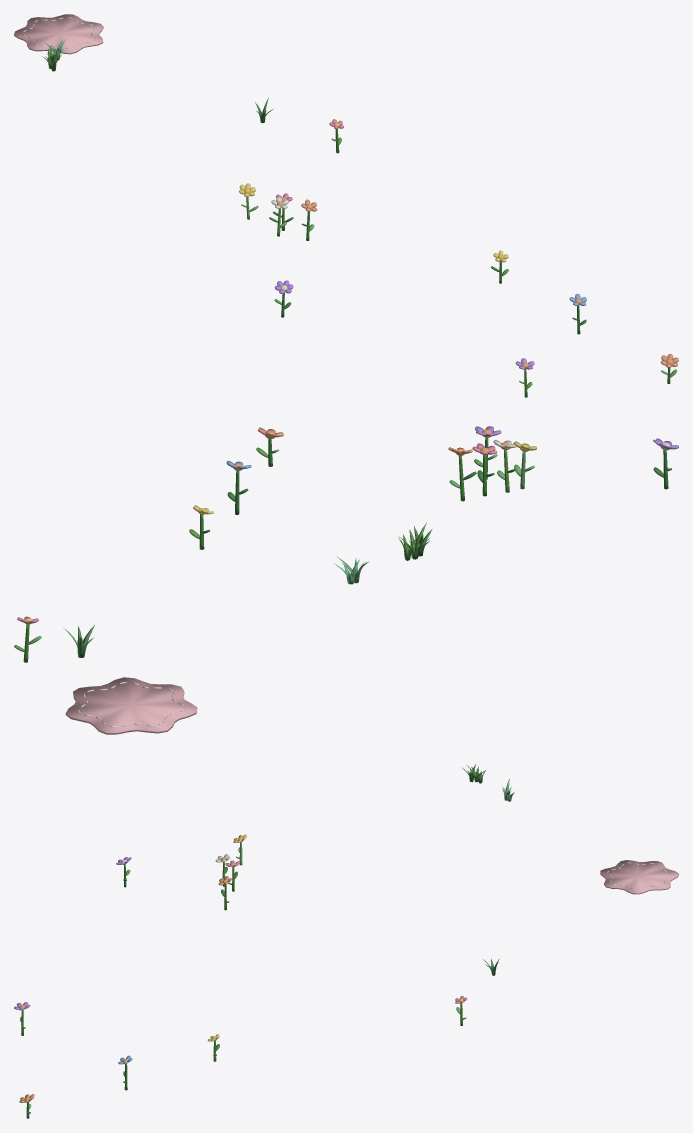
Rendered from W4_FloraRing_7_9.fbx.
3 renders of one model, top to bottom at view 1: azimuth 30°, elevation 25°; view 2: azimuth 150°, elevation 25°; view 3: azimuth 270°, elevation 25°, orthographic. The views are drawn at different scales.
Parts seen in each view (by area): view 1: W4_FloraRing_7_9; view 2: W4_FloraRing_7_9; view 3: W4_FloraRing_7_9.
Part boxes in pixels (x1,y1,x2,y2): W4_FloraRing_7_9: (14, 14, 678, 397); W4_FloraRing_7_9: (14, 426, 678, 734); W4_FloraRing_7_9: (14, 764, 678, 1118).
Size of the model in its own units: 2.33 by 1.38 by 4.12.
